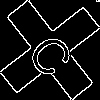C: (24, 24, 83, 82)
